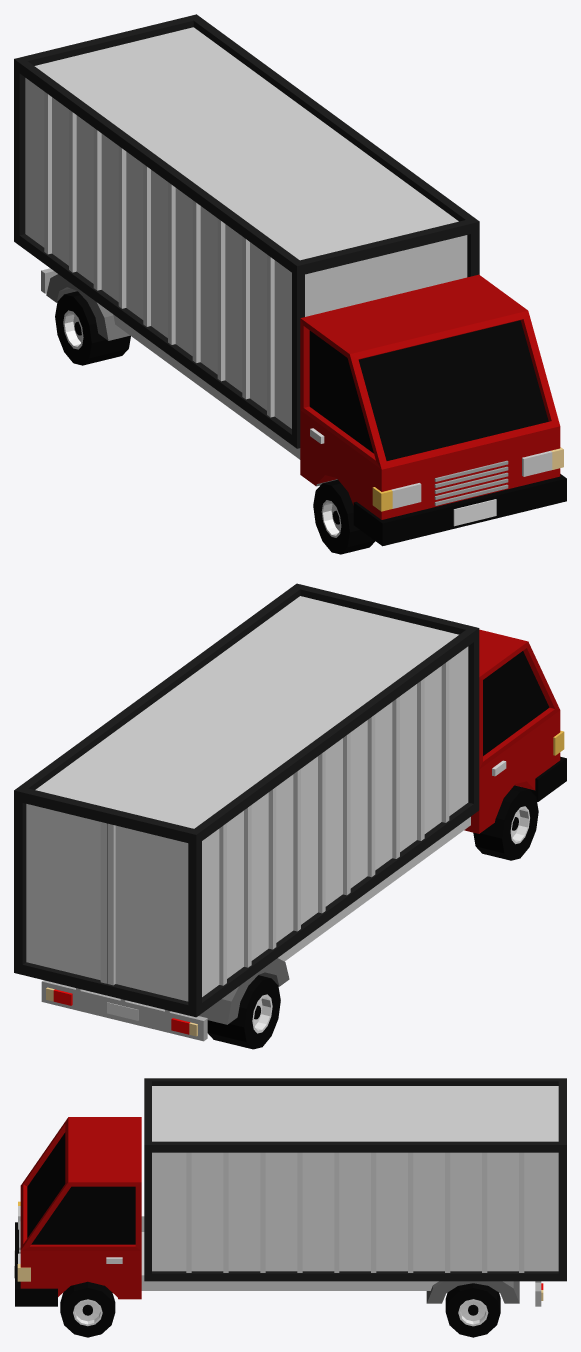
Rendered from Truck-01.fbx.
3 renders of one model, top to bottom at view 1: azimuth 30°, elevation 25°; view 2: azimuth 150°, elevation 25°; view 3: azimuth 270°, elevation 25°, orthographic. The views are drawn at different scales.
Parts seen in each view (by area): view 1: Truck, BR, FR, Head-Light; view 2: Truck, BR, FR; view 3: Truck, FL, BL.
Part boxes in pixels (x1=…): Truck: x1=14, y1=14, x2=566, y2=546; BR: x1=55, y1=291, x2=130, y2=365; FR: x1=313, y1=479, x2=375, y2=554; Head-Light: x1=391, y1=451, x2=552, y2=508; Truck: x1=14, y1=583, x2=566, y2=1041; BR: x1=207, y1=975, x2=280, y2=1049; FR: x1=473, y1=786, x2=538, y2=860; Truck: x1=14, y1=1078, x2=566, y2=1306; FL: x1=60, y1=1281, x2=115, y2=1337; BL: x1=445, y1=1283, x2=500, y2=1337.
Bounding box in the file's own units: 2.58 × 3.39 × 8.82.
